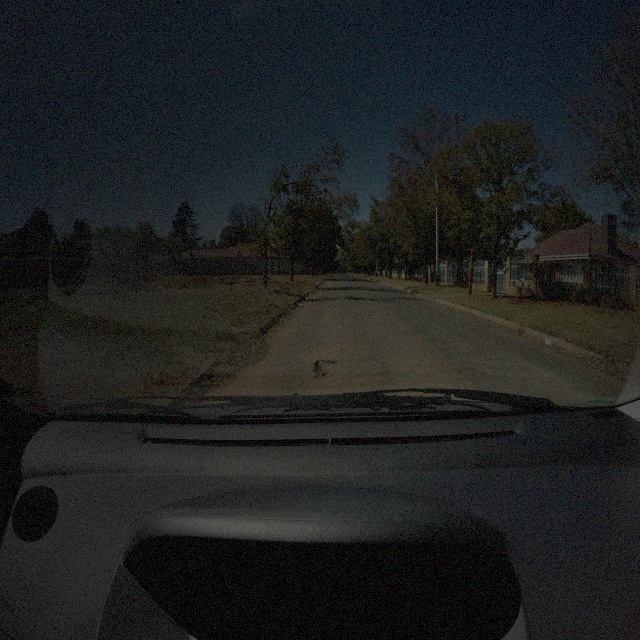pothole: (312, 356, 339, 381)
